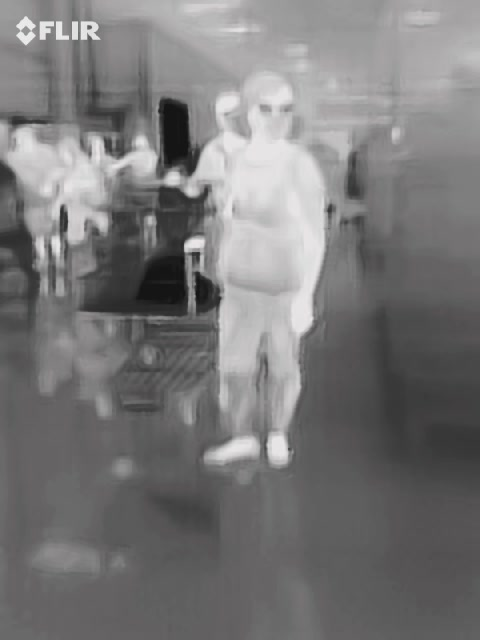head: (244, 72, 297, 146), (211, 87, 249, 134)
